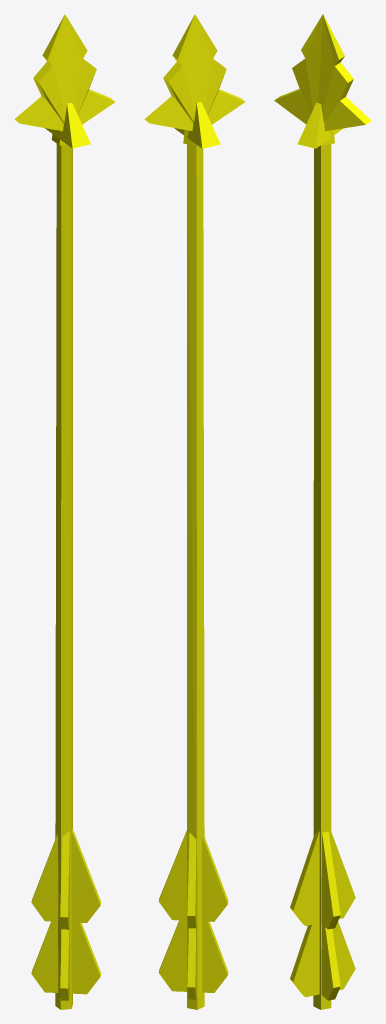
File: _arrow_c_14.glb
The picture shows the model from 3 angles, left to right: view 1: azimuth 30°, elevation 25°; view 2: azimuth 210°, elevation 25°; view 3: azimuth 330°, elevation 25°; orthographic projection.
Visible parts, largest first — view 1: arrow_c_14; view 2: arrow_c_14; view 3: arrow_c_14.
Boxes of the visible parts, x1=… form: arrow_c_14: x1=14, y1=14, x2=114, y2=1009; arrow_c_14: x1=144, y1=14, x2=244, y2=1009; arrow_c_14: x1=274, y1=14, x2=371, y2=1009.
Bounding box in the file's own units: 0.0606 × 0.6095 × 0.0372.
1 material, 1 textured.
